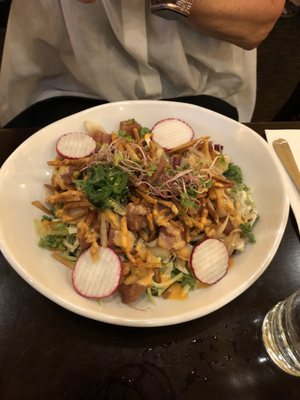curry: (73, 163, 130, 215)
sushi: (0, 104, 291, 328)
